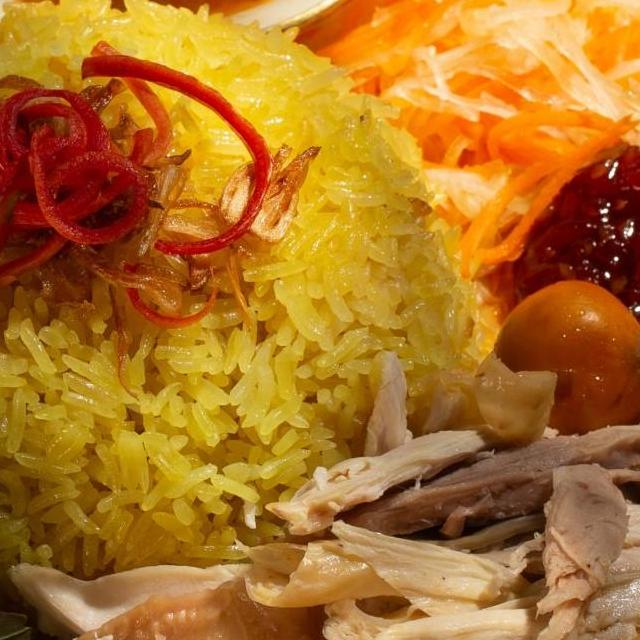com: (0, 0, 497, 590)
com ga: (0, 0, 640, 640)
thit ga: (0, 346, 640, 640)
trung: (482, 264, 640, 460)
